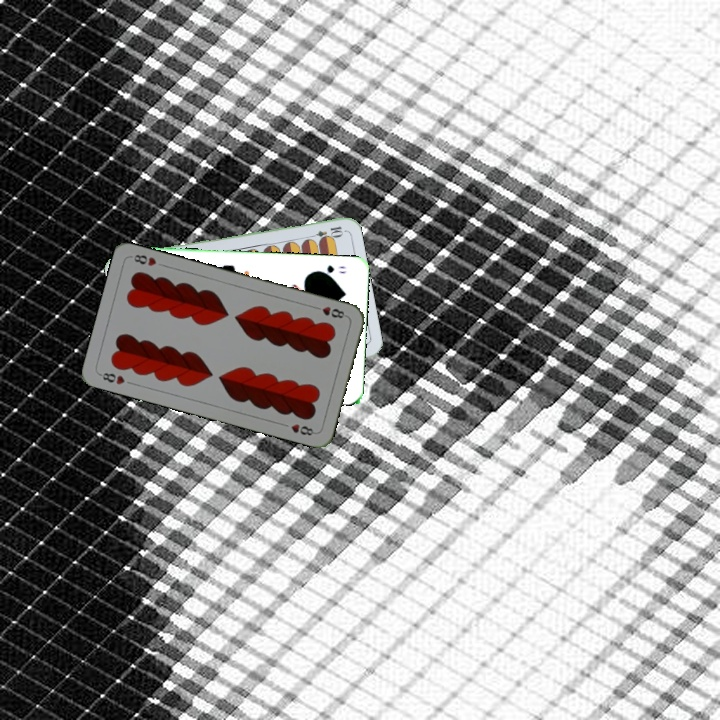E10: (305, 222, 345, 242)
GO: (312, 261, 349, 278)
H8: (309, 302, 349, 321), (95, 368, 127, 387)
